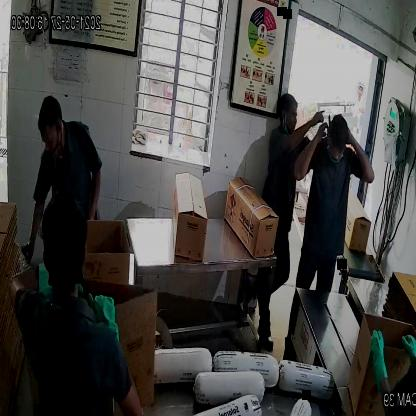no_goggles: (39, 128, 62, 152)
